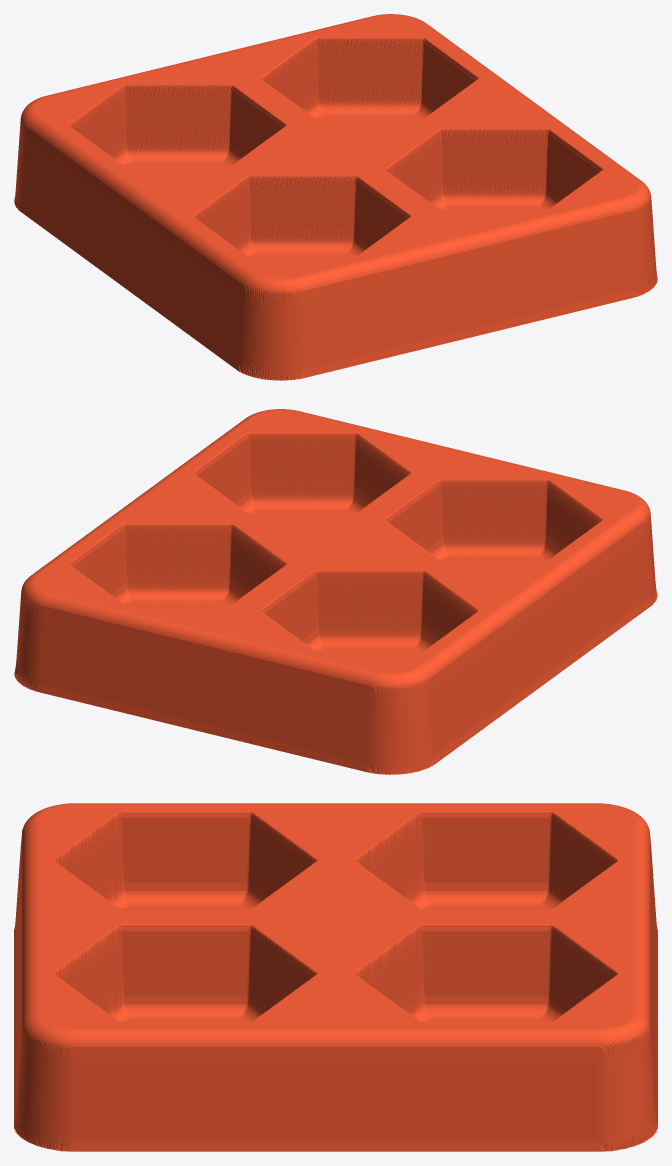
File: mold.glb
3 renders of one model, top to bottom at view 1: azimuth 30°, elevation 25°; view 2: azimuth 150°, elevation 25°; view 3: azimuth 270°, elevation 25°, orthographic. The views are drawn at different scales.
Visible parts, largest first — view 1: geometry_0; view 2: geometry_0; view 3: geometry_0.
Boxes of the visible parts, x1,y1,x2,y2 form: geometry_0: (14, 14, 657, 380); geometry_0: (14, 409, 657, 774); geometry_0: (14, 803, 657, 1151).
Size of the model in its own units: 0.0846 by 0.0182 by 0.0942.
